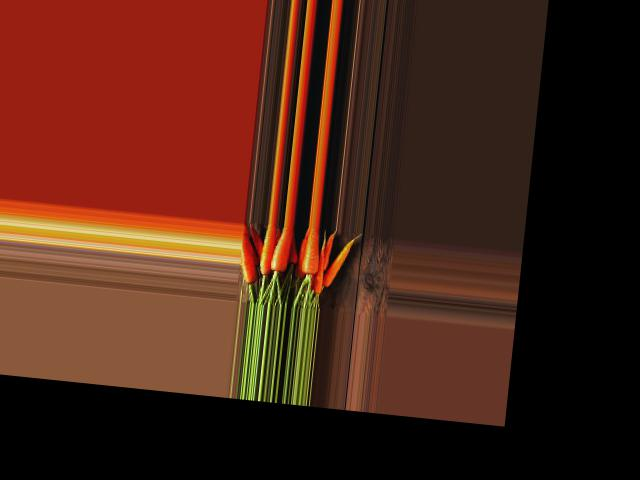carrot: (340, 200, 392, 300)
